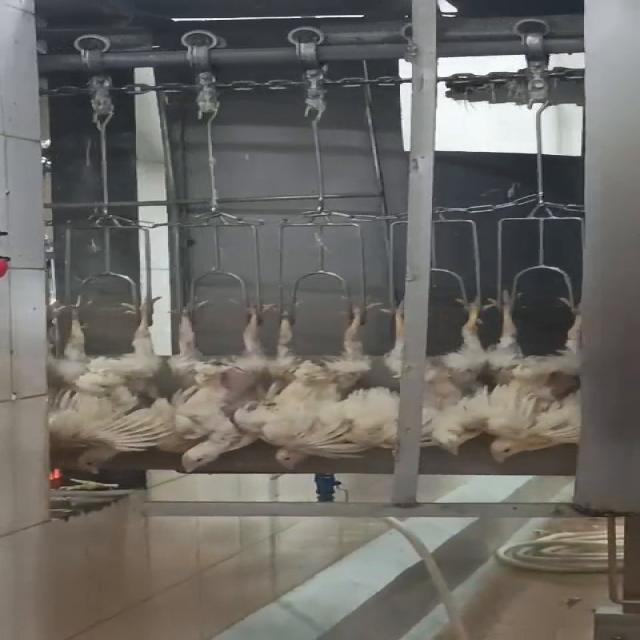chicken: (46, 292, 166, 478), (267, 296, 389, 470), (361, 291, 483, 459), (477, 293, 598, 462), (176, 297, 272, 475)
